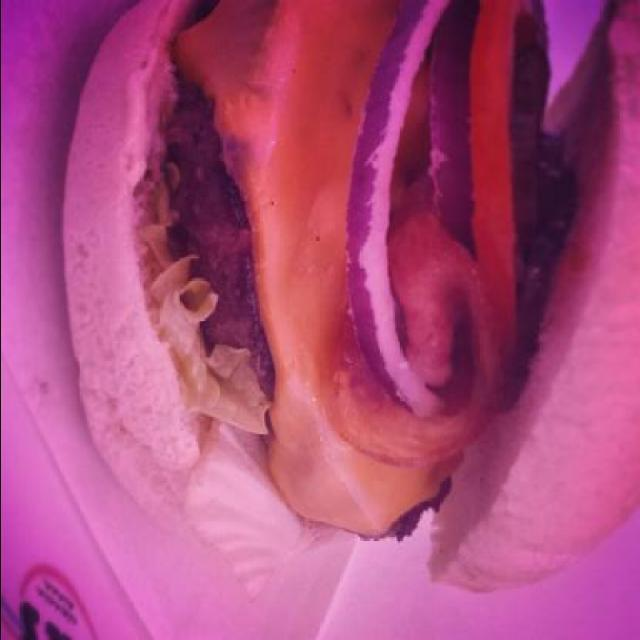Sandwich: (60, 0, 640, 602)
